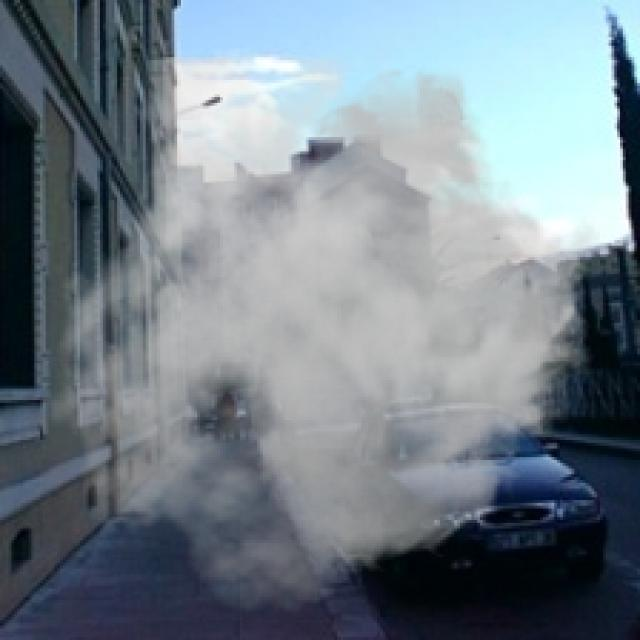Smoke: (43, 57, 603, 614)
